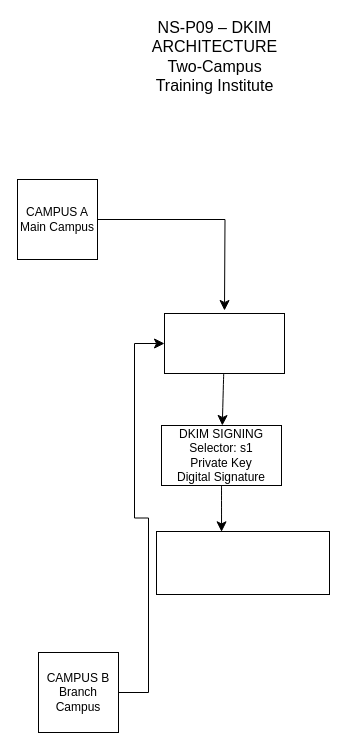
Image size: 347x750. Some labels were removed from this diagram. Here are the shapes that lost their labels. From the top down, the box of each, then its label:
(164, 312, 284, 374): INSTITUTE MAIL SERVER Email Signing
(156, 530, 330, 594): DNS s1._domainkey.abctraining.edu Public Key
